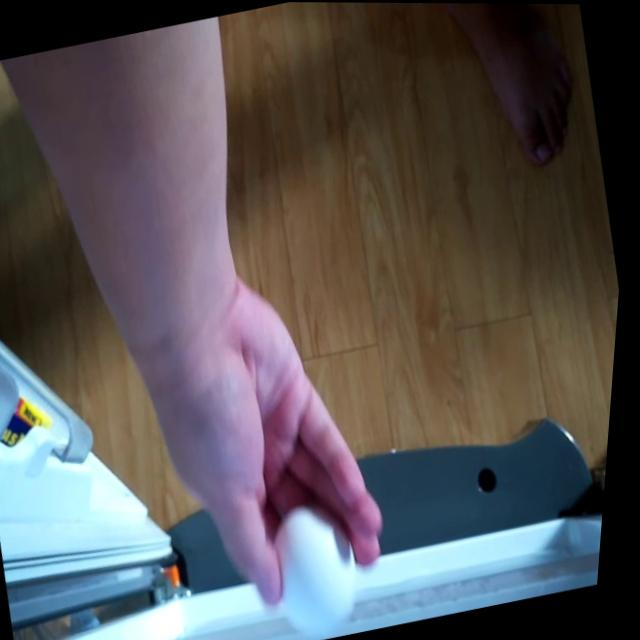egg: (264, 492, 384, 640)
